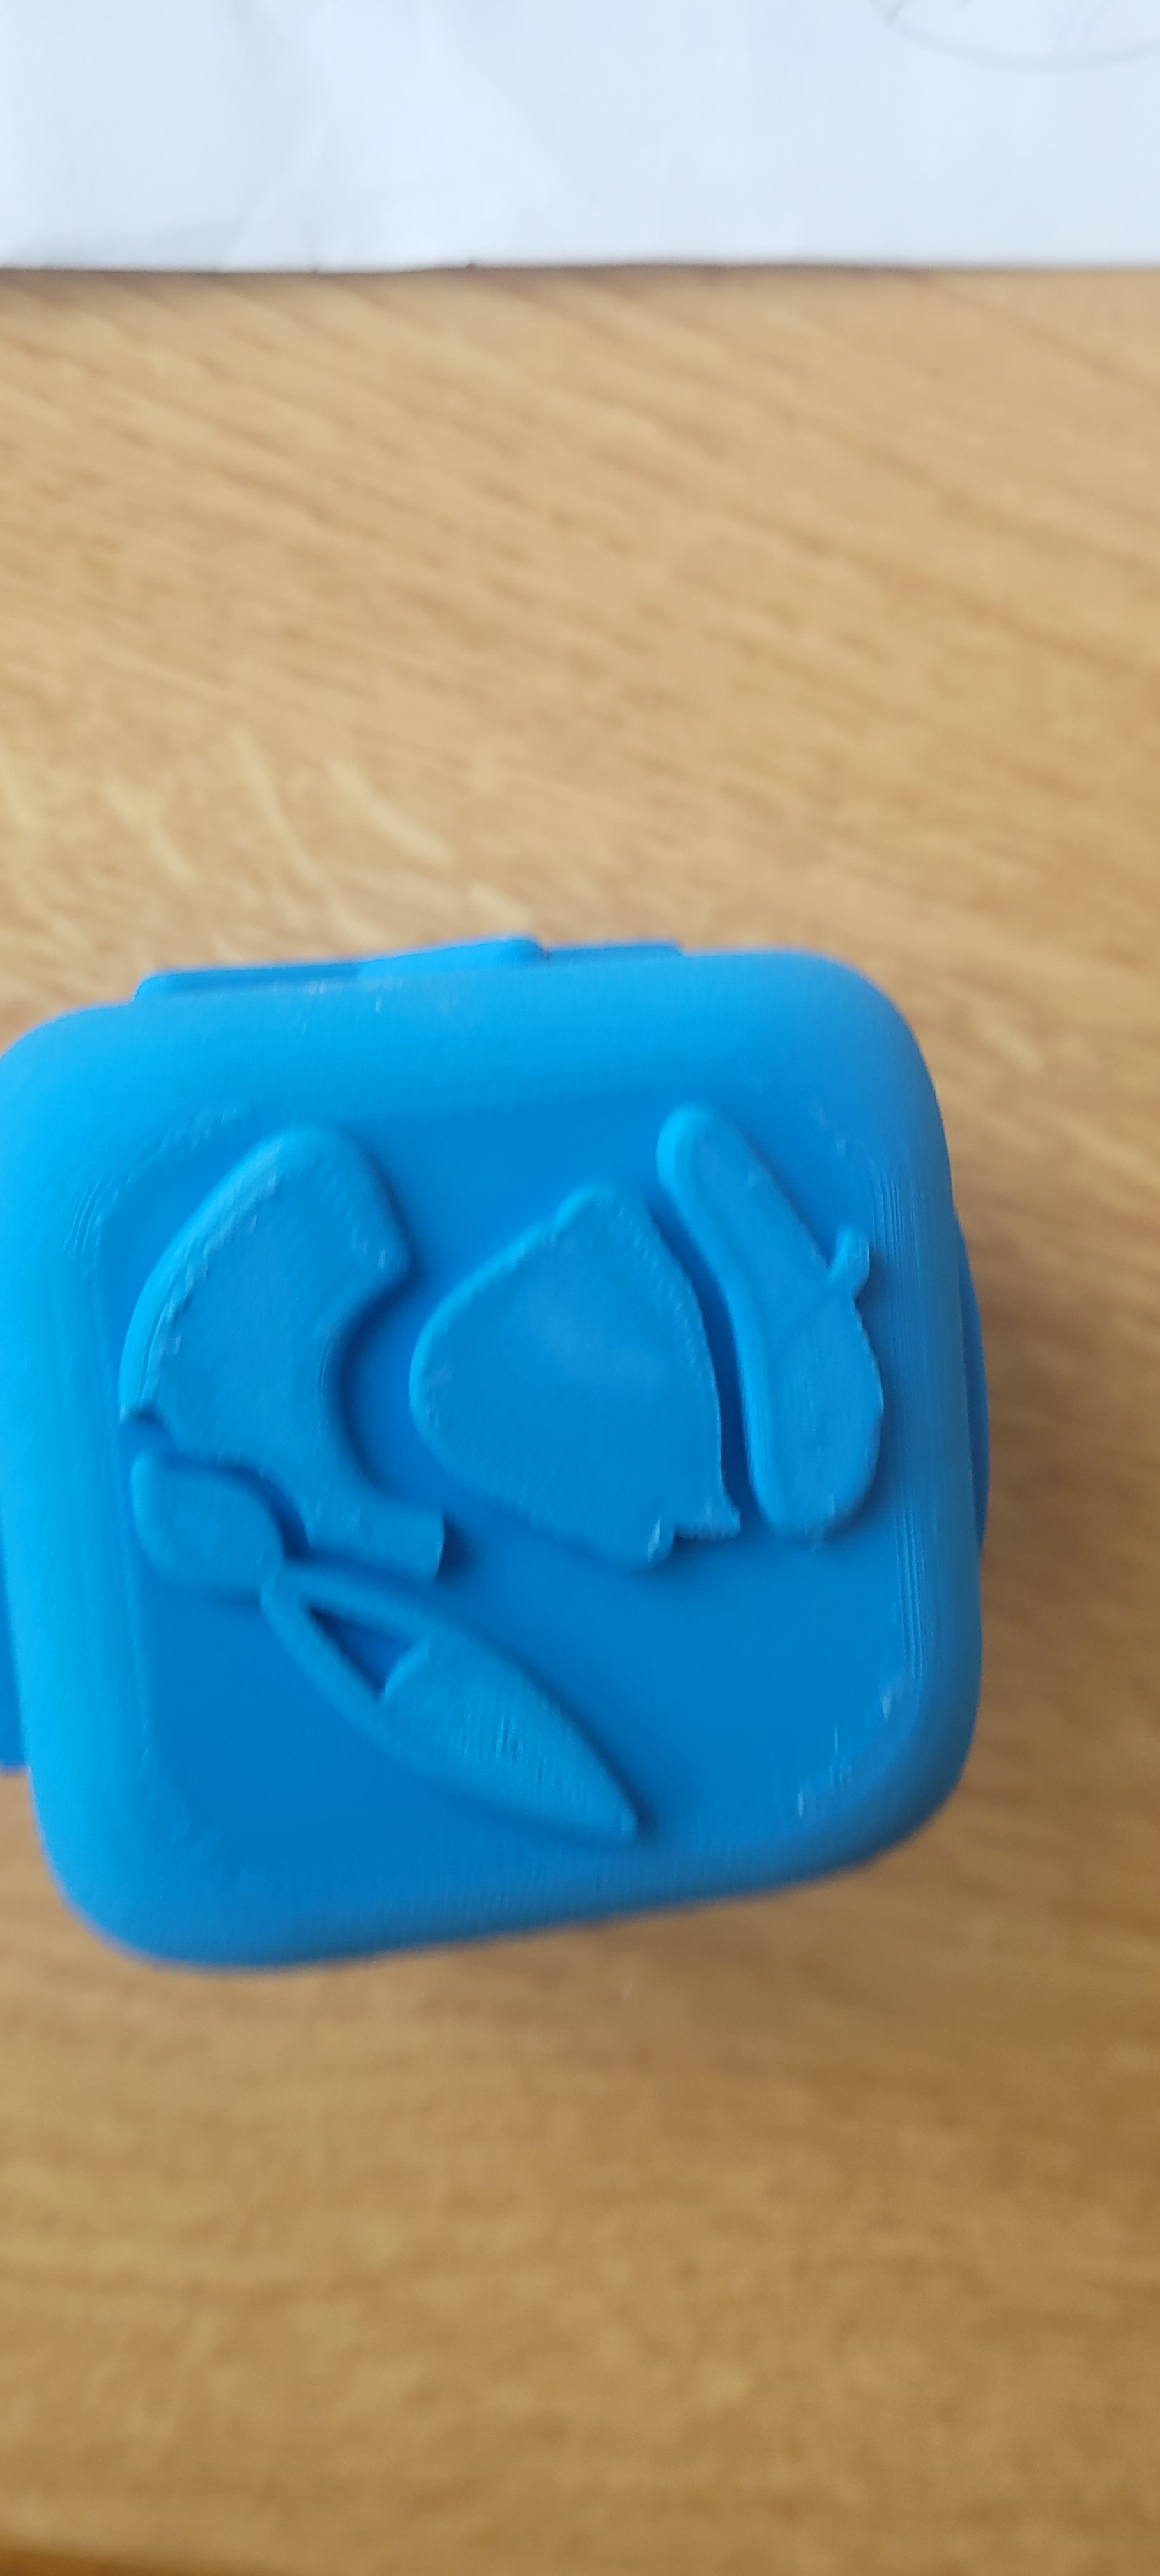Artist_Info: (0, 930, 975, 1937)
